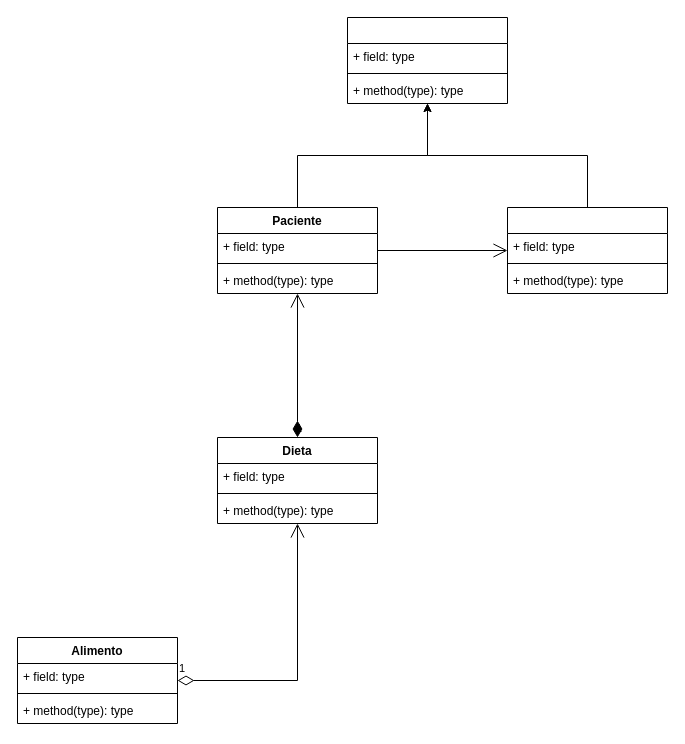
Image size: 685x744. Some labels were removed from this diagram. The shapes that lost their labels are listed below. From the top down, each one's box as (x1, y1, x2, y2) in pixels, then its label:
(346, 16, 508, 104): Pessoa
(506, 206, 668, 294): Nutricionista
